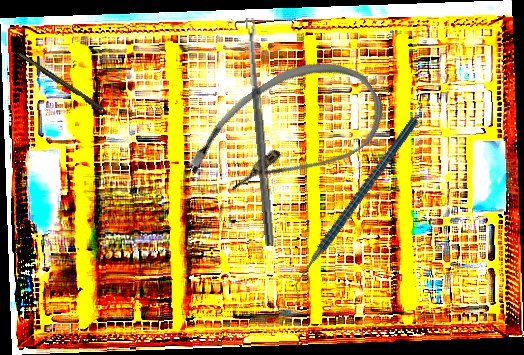Cannula: (174, 35, 397, 233)
Chopper: (246, 115, 465, 305)
Hook Surgical: (18, 51, 116, 121)
Surgical Spoon: (245, 17, 276, 247)
